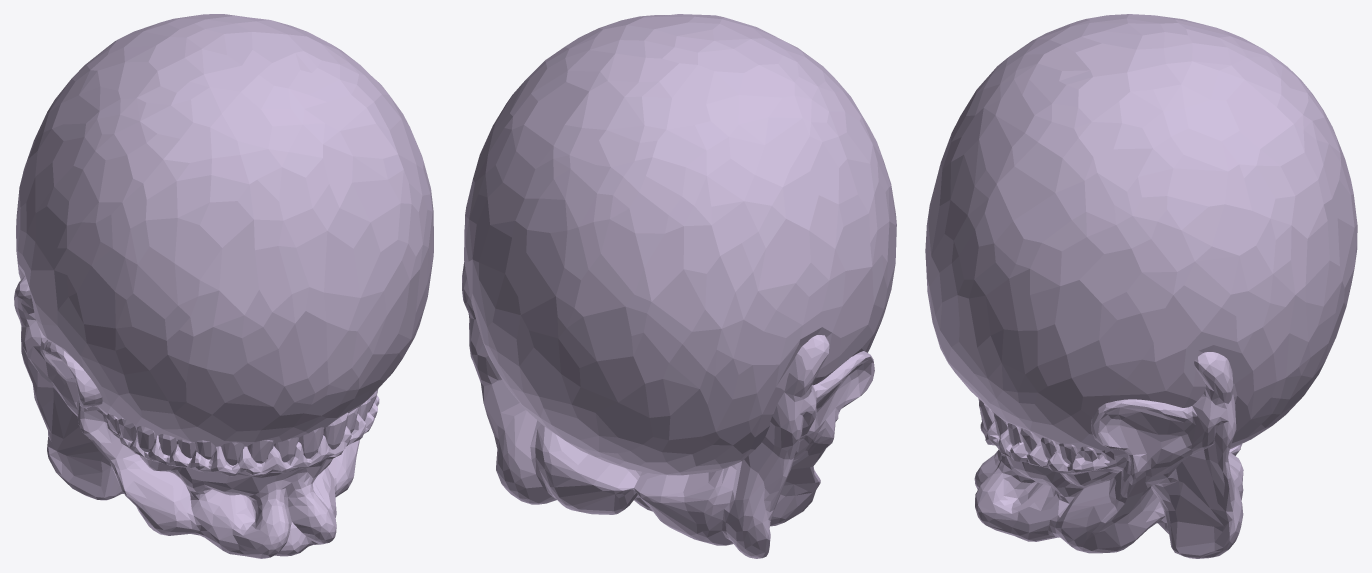
Rendered from Misc_02.glb.
3 renders of one model, left to right at view 1: azimuth 30°, elevation 25°; view 2: azimuth 150°, elevation 25°; view 3: azimuth 270°, elevation 25°, orthographic. The views are drawn at different scales.
Visible parts, largest first — view 1: Misc_02; view 2: Misc_02; view 3: Misc_02.
Part boxes in pixels (x1,y1,x2,y2): Misc_02: (14, 14, 433, 558); Misc_02: (462, 14, 896, 558); Misc_02: (925, 14, 1357, 558).
Bounding box in the file's own units: 2.4 × 3.03 × 2.44.
